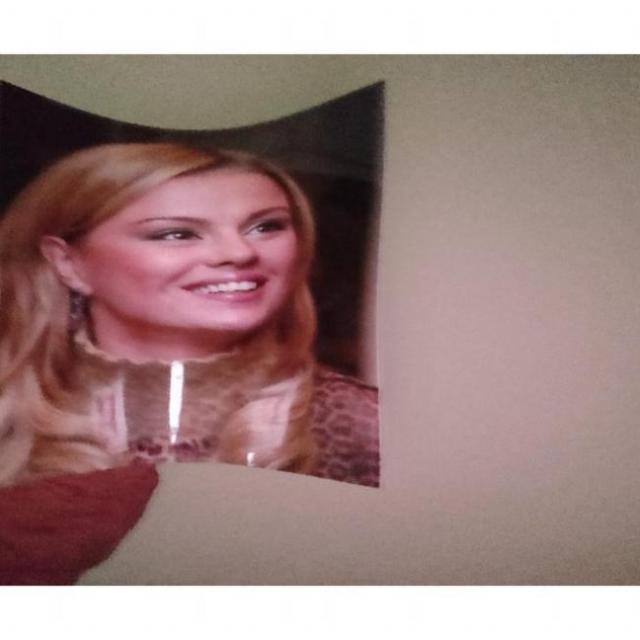photo: (0, 77, 392, 502)
